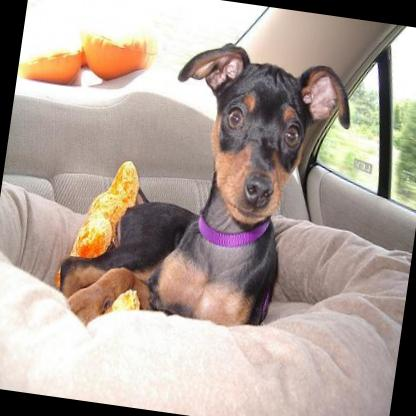miniature_pinscher: (47, 16, 360, 362)
